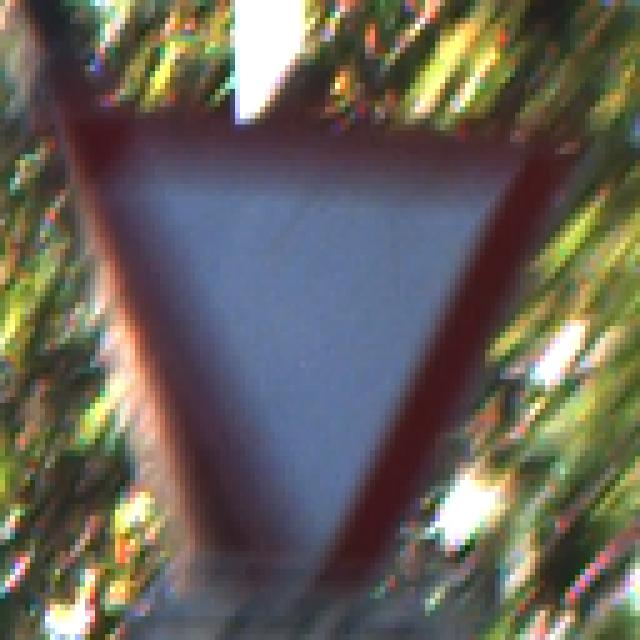Give Way: (56, 54, 586, 588)
